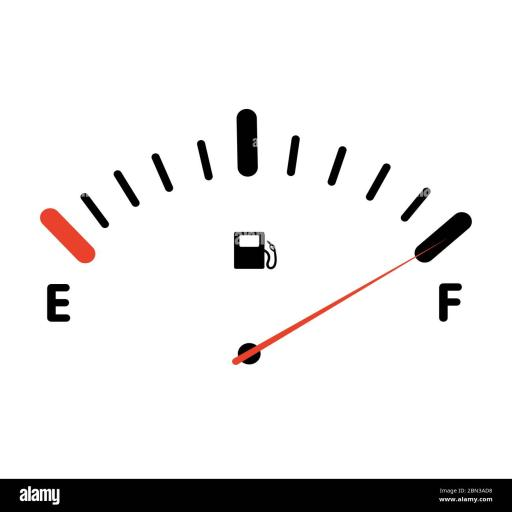empty: (44, 279, 74, 325)
fuel_icon: (228, 228, 280, 273)
full: (436, 279, 463, 322)
guage_area: (29, 104, 474, 376)
needle_center: (231, 332, 268, 373)
needle_tip: (398, 237, 445, 265)
